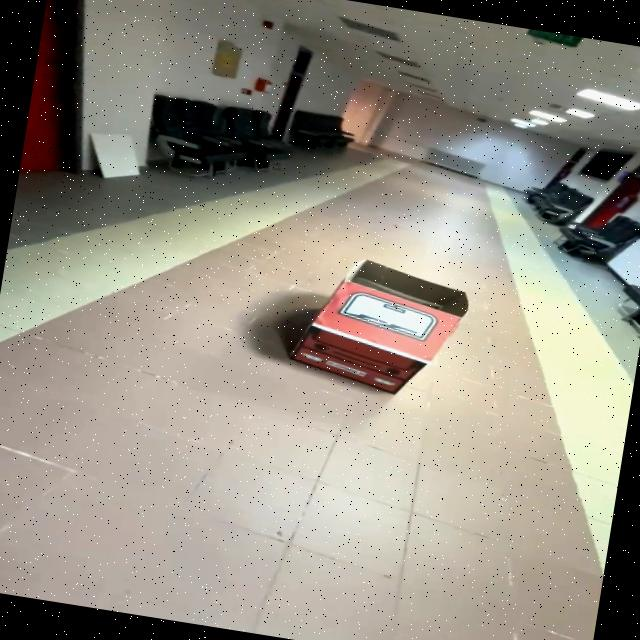red_car: (246, 236, 496, 422)
